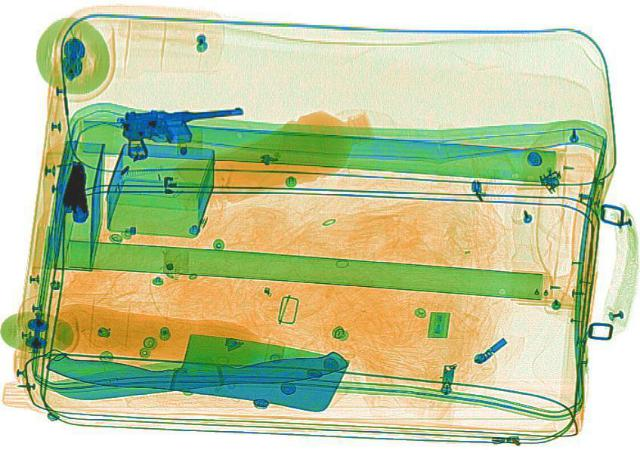Gun: (112, 103, 248, 158), (56, 159, 95, 222)
Knife: (41, 314, 352, 411), (39, 343, 348, 399)
